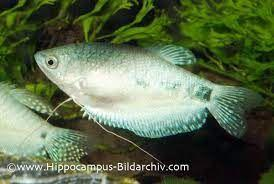Gourami: (34, 41, 256, 163)
